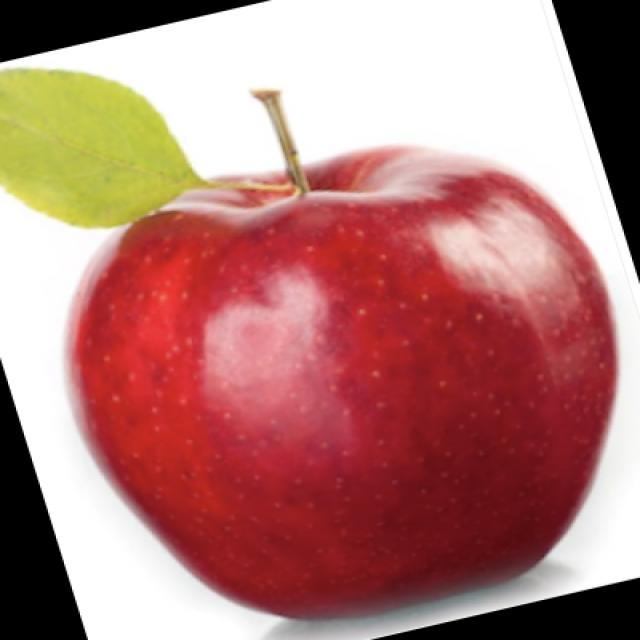Fresh Apple: (70, 141, 616, 640)
